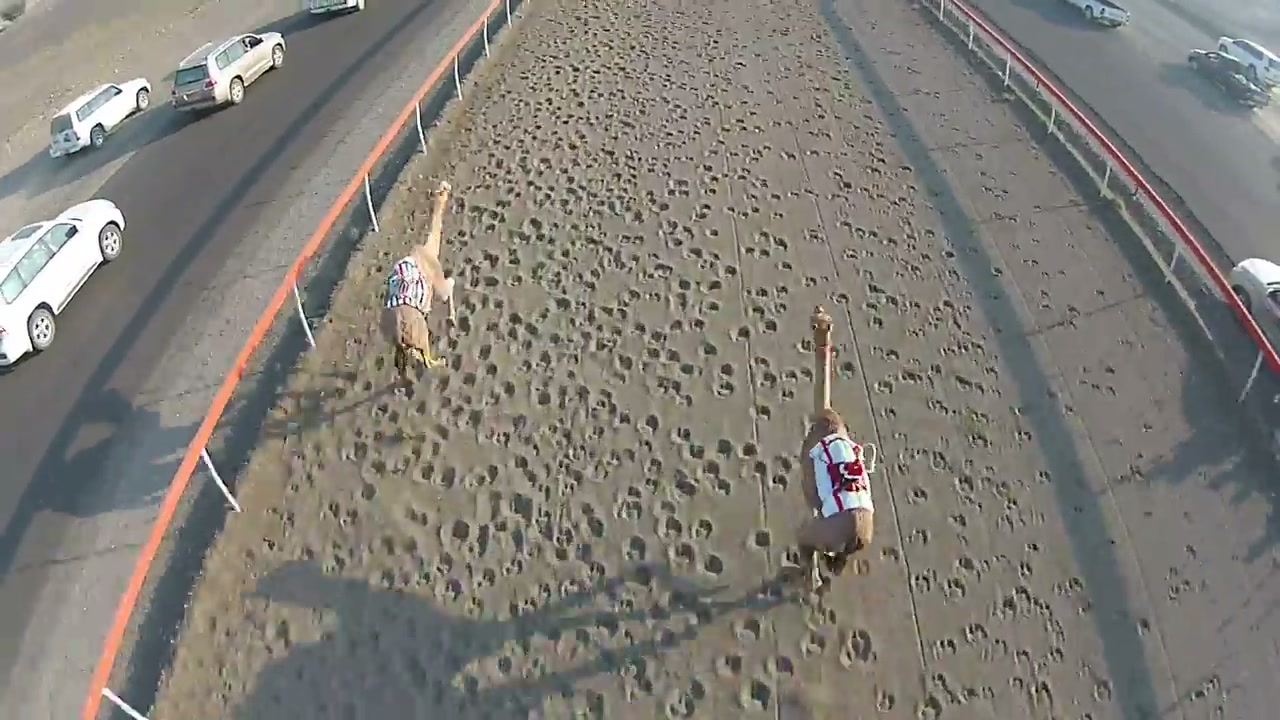animal_footprint: (626, 73, 890, 709), (377, 44, 597, 609)
